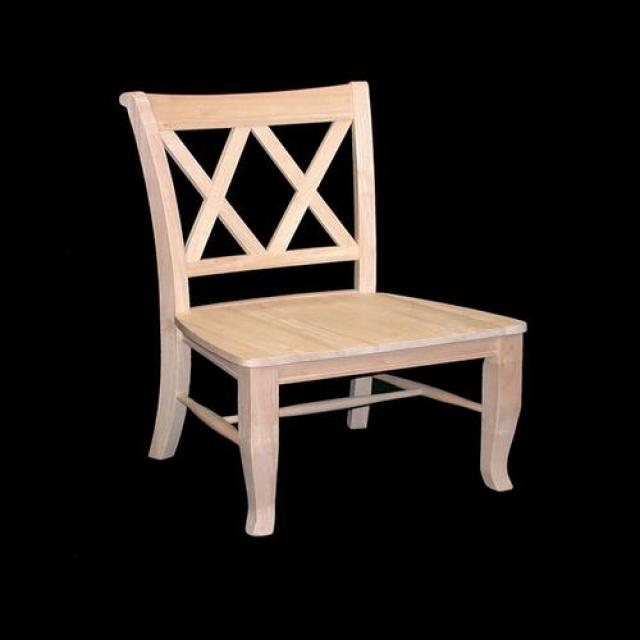chair: (118, 82, 526, 539)
